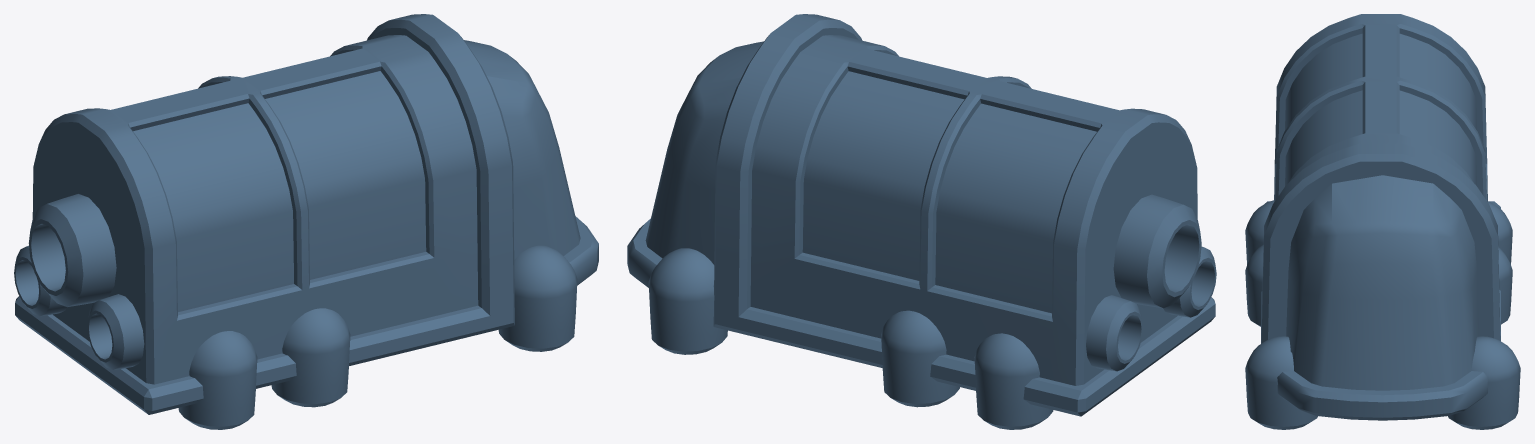
The model's file is Bus.fbx.
3 views of the same model, side by side, from view 1: azimuth 30°, elevation 25°; view 2: azimuth 150°, elevation 25°; view 3: azimuth 270°, elevation 25° (orthographic). The views are drawn at different scales.
Visible parts, largest first — view 1: pCylinder12, pCube16, pSphere19, pSphere13, pSphere14, pSphere15, pSphere21, pSphere20; view 2: pCylinder12, pCube16, pSphere19, pSphere18, pSphere17, pSphere16, pSphere20, pSphere21; view 3: pCube16, pCylinder12, pSphere18, pSphere13, pSphere15, pSphere14, pSphere16, pSphere17.
Part boxes in pixels (x1=…): pCylinder12: x1=15, y1=14, x2=514, y2=414; pCube16: x1=464, y1=40, x2=598, y2=285; pSphere19: x1=28, y1=194, x2=116, y2=306; pSphere13: x1=498, y1=245, x2=577, y2=351; pSphere14: x1=178, y1=331, x2=257, y2=429; pSphere15: x1=271, y1=308, x2=350, y2=407; pSphere21: x1=87, y1=294, x2=144, y2=369; pSphere20: x1=14, y1=245, x2=66, y2=316; pCylinder12: x1=713, y1=14, x2=1215, y2=416; pCube16: x1=627, y1=41, x2=763, y2=287; pSphere19: x1=1113, y1=194, x2=1201, y2=308; pSphere18: x1=648, y1=248, x2=727, y2=354; pSphere17: x1=974, y1=333, x2=1053, y2=429; pSphere16: x1=881, y1=310, x2=959, y2=407; pSphere20: x1=1086, y1=295, x2=1142, y2=371; pSphere21: x1=1163, y1=246, x2=1216, y2=317; pCube16: x1=1277, y1=175, x2=1488, y2=420; pCylinder12: x1=1261, y1=14, x2=1500, y2=343; pSphere18: x1=1448, y1=336, x2=1520, y2=429; pSphere13: x1=1245, y1=336, x2=1317, y2=429; pSphere15: x1=1245, y1=245, x2=1263, y2=326; pSphere14: x1=1245, y1=200, x2=1274, y2=264; pSphere16: x1=1498, y1=247, x2=1512, y2=324; pSphere17: x1=1487, y1=201, x2=1512, y2=264.
Bounding box in the file's own units: 1004 × 520 × 519.
